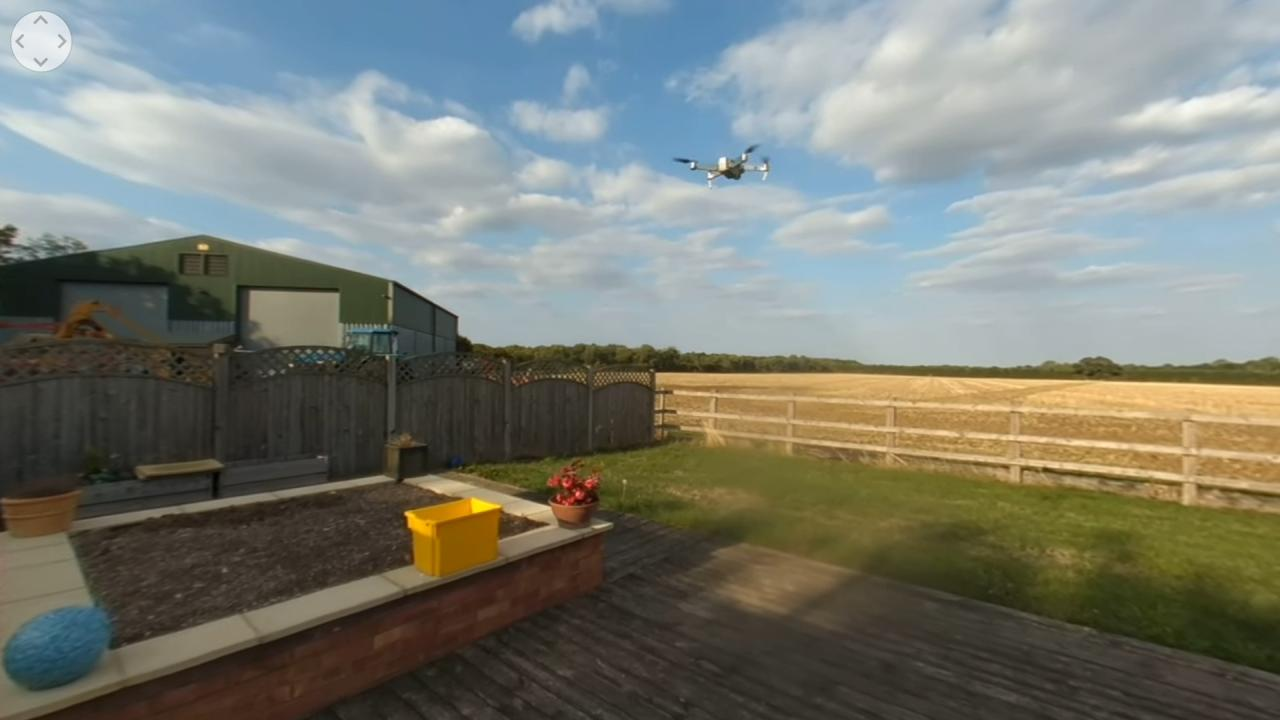Drone: (666, 133, 786, 200)
